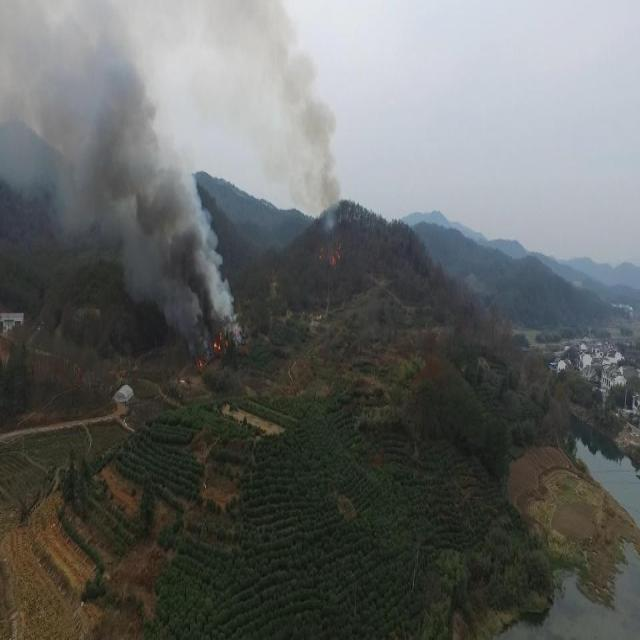Fire: (212, 330, 230, 353)
Smoke: (1, 1, 344, 364)
